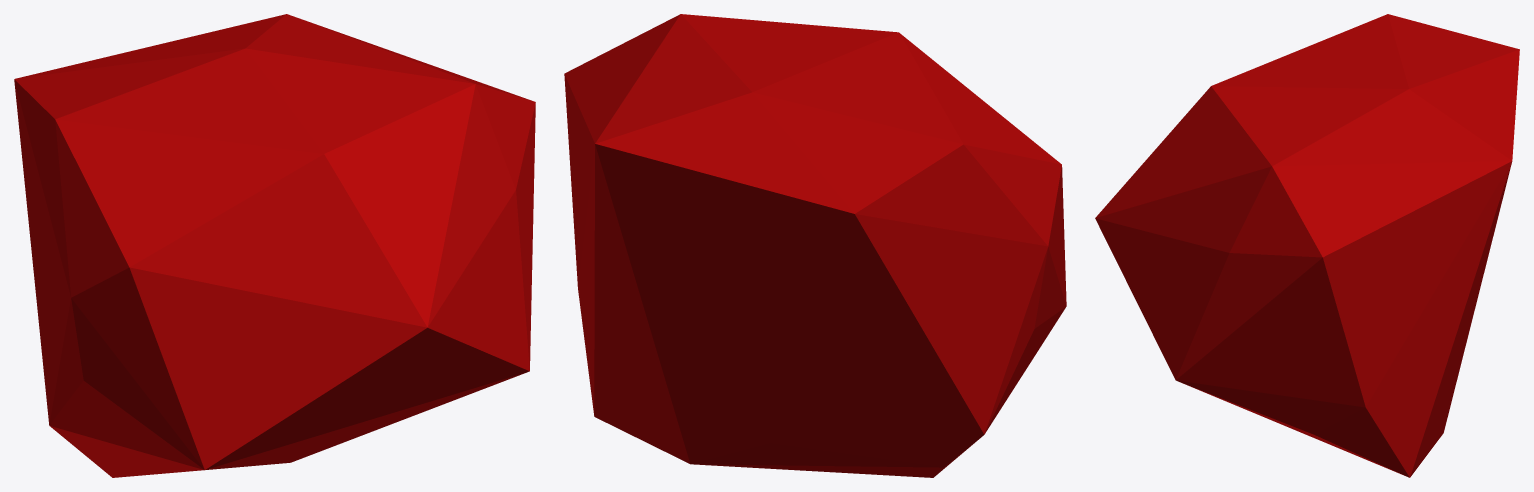
File: rock_a.glb
3 views of the same model, side by side, from view 1: azimuth 30°, elevation 25°; view 2: azimuth 150°, elevation 25°; view 3: azimuth 270°, elevation 25° (orthographic). The views are drawn at different scales.
Visible parts, largest first — view 1: rock_a; view 2: rock_a; view 3: rock_a.
Boxes of the visible parts, x1=… form: rock_a: x1=14, y1=14, x2=535, y2=477; rock_a: x1=564, y1=14, x2=1066, y2=477; rock_a: x1=1095, y1=14, x2=1519, y2=477.
Bounding box in the file's own units: 1.99 × 1.49 × 1.76.
